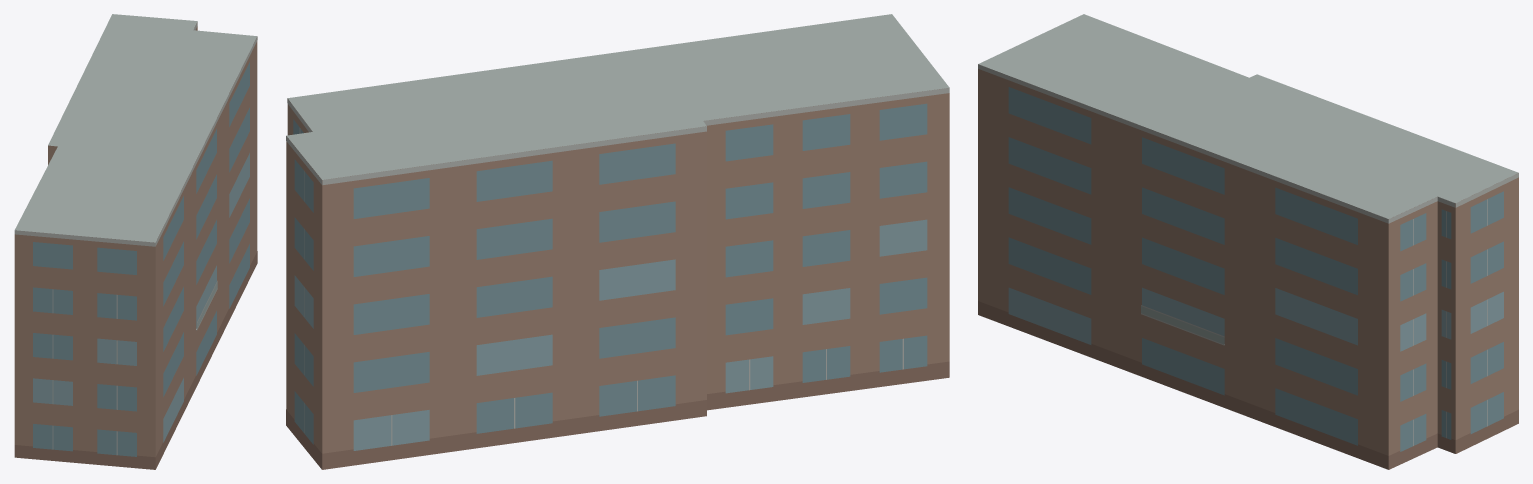
The model's file is survey-upis-32534459.glb.
3 views of the same model, side by side, from view 1: azimuth 30°, elevation 25°; view 2: azimuth 150°, elevation 25°; view 3: azimuth 270°, elevation 25° (orthographic). The views are drawn at different scales.
Parts seen in each view (by area): view 1: survey-upis-32534459.tmp; view 2: survey-upis-32534459.tmp; view 3: survey-upis-32534459.tmp.
Part boxes in pixels (x1,y1,x2,y2): survey-upis-32534459.tmp: (14,14,257,469); survey-upis-32534459.tmp: (286,14,949,469); survey-upis-32534459.tmp: (978,14,1518,469).
Bounding box in the file's own units: 23.51 × 13.4 × 26.2.
